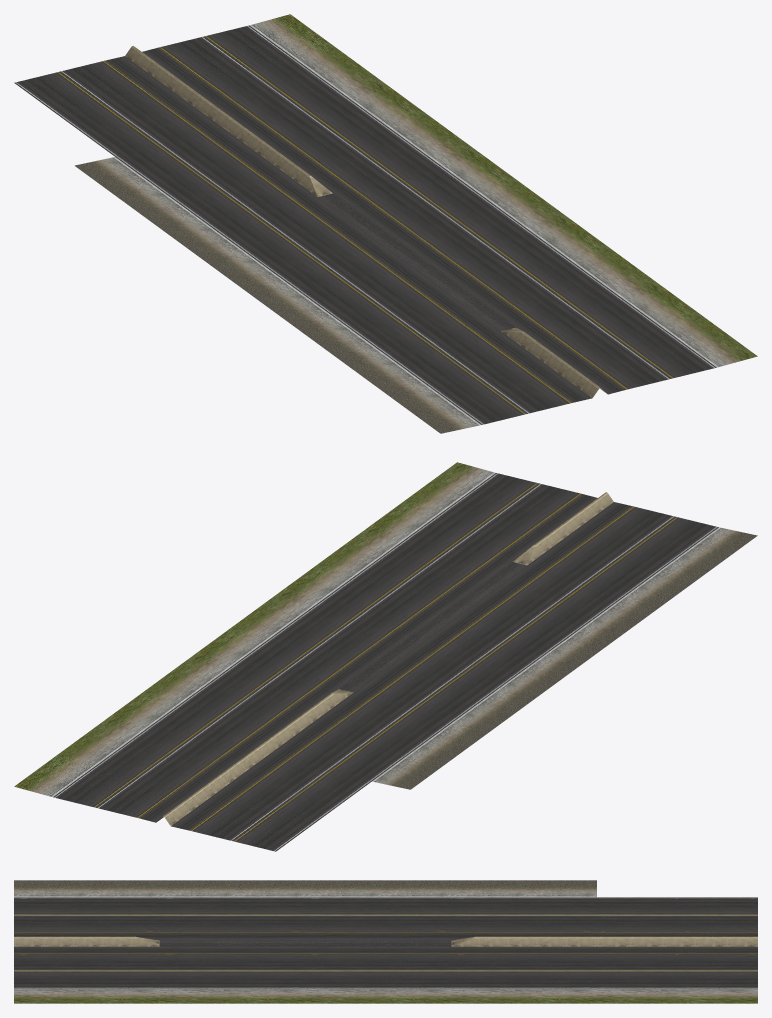
Rendered from vegasnroad17b.obj.
3 views of the same model, one above another, from view 1: azimuth 30°, elevation 25°; view 2: azimuth 150°, elevation 25°; view 3: azimuth 270°, elevation 25° (orthographic). The views are drawn at different scales.
Parts seen in each view (by area): view 1: vegasNroad17b; view 2: vegasNroad17b; view 3: vegasNroad17b.
Boxes of the visible parts, bbox=[...] form: vegasNroad17b: bbox=[14, 14, 757, 433]; vegasNroad17b: bbox=[14, 462, 757, 851]; vegasNroad17b: bbox=[14, 880, 757, 1003].
Size of the model in its own units: 40 by 0.9823 by 102.
5 materials, 5 textured.
